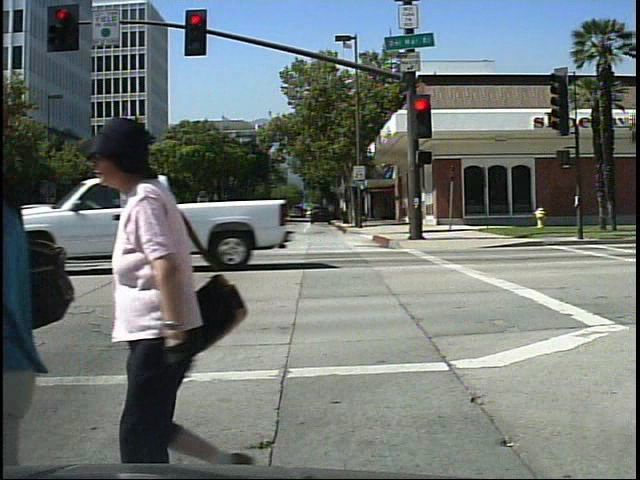person: (83, 108, 263, 470), (0, 83, 70, 470)
